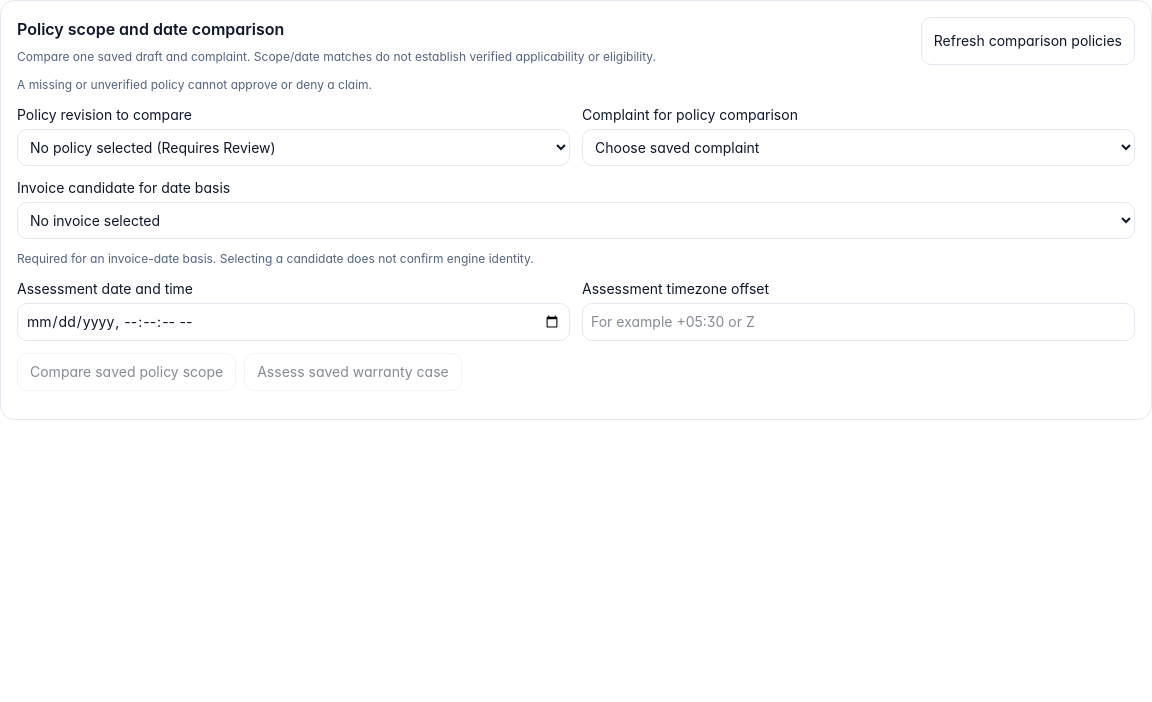
Test: requires explicit policy, case and timezone input and clears the result when inputs change
Check: the button "Compare saved policy scope" is disabled, box x1=17 y1=353 x2=236 y2=391
Select "Fixture policy draft · Revision 1" in the dropdown labelled "Policy revision to compare" at coordinates (294, 148), box x1=17 y1=129 x2=570 y2=166
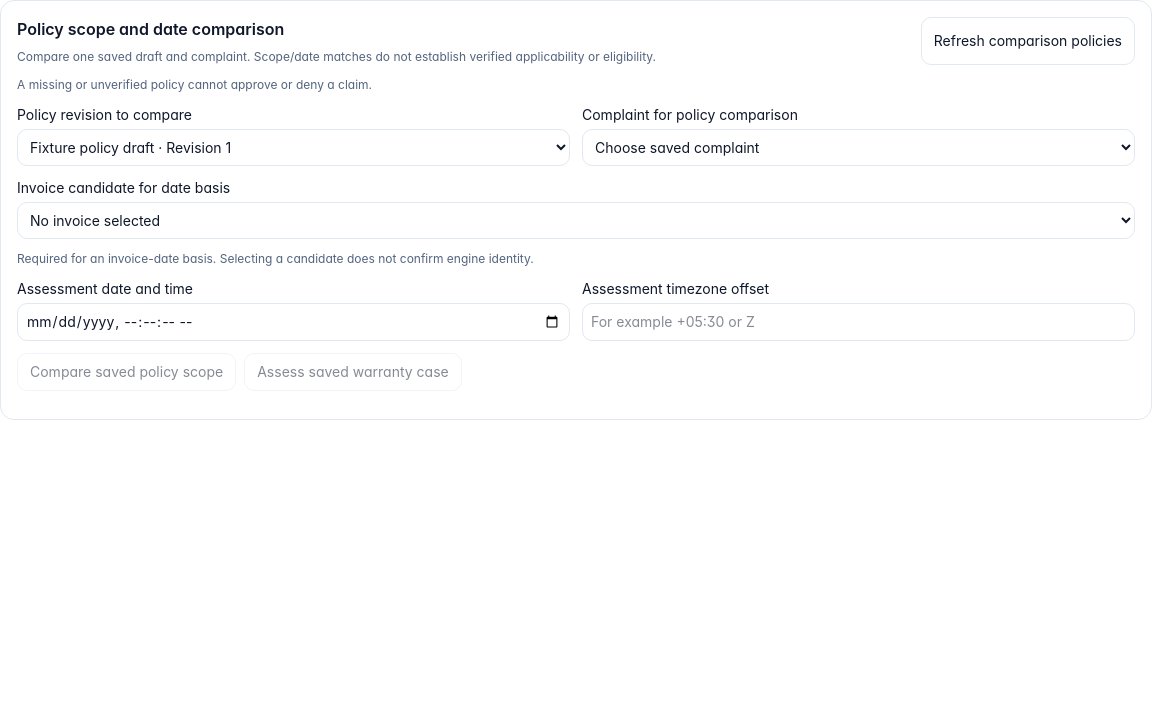
Select "t1" in the dropdown labelled "Complaint for policy comparison" at coordinates (858, 148), box x1=582 y1=129 x2=1135 y2=166
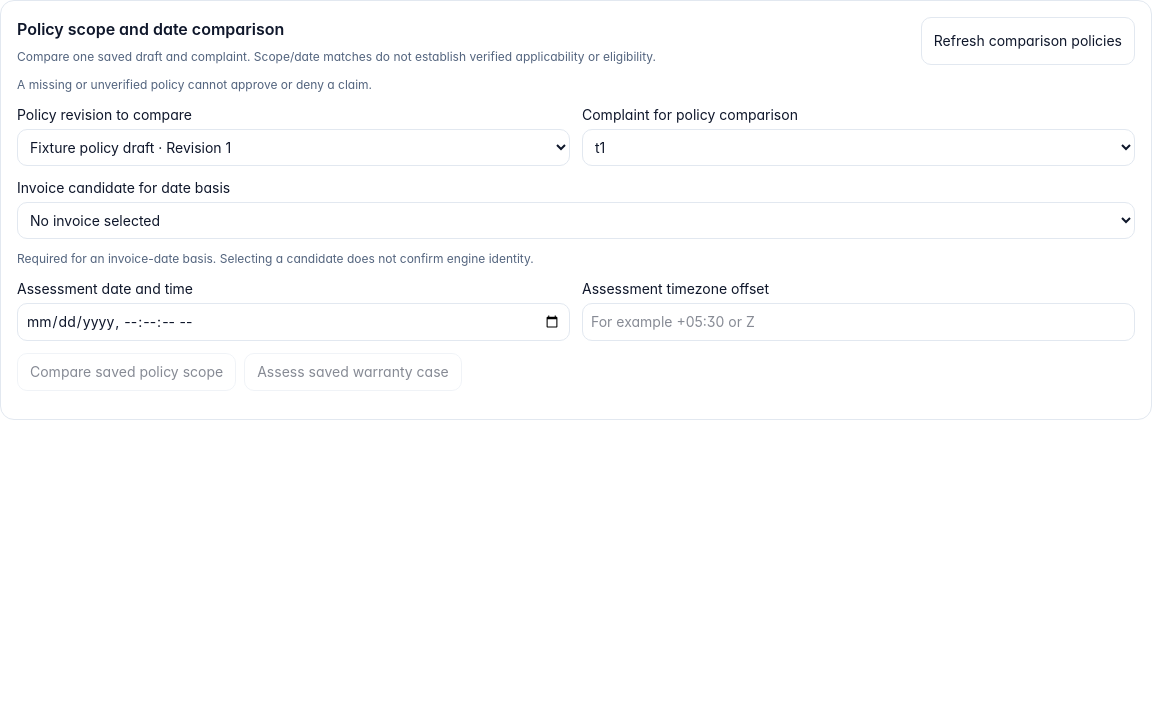
Type "2026-06-01T12:00" into the field labelled "Assessment date and time" at coordinates (294, 322), box x1=17 y1=303 x2=570 y2=341
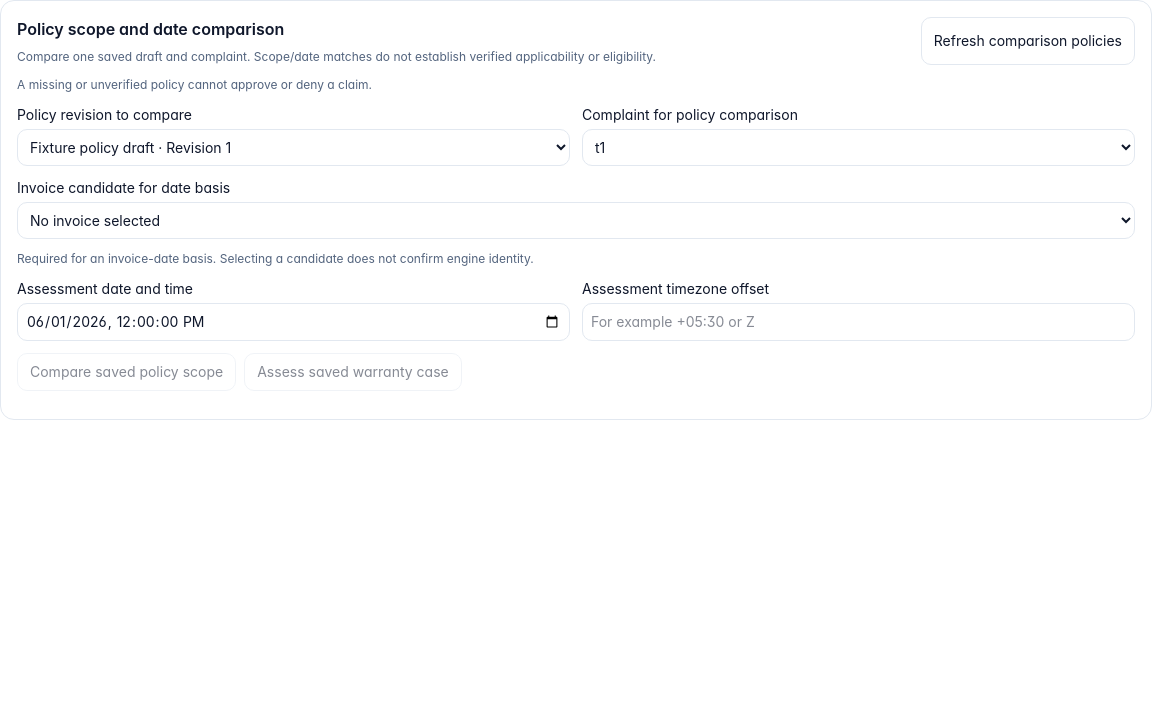
Type "+05:30" into the field labelled "Assessment timezone offset" at coordinates (858, 322), box x1=582 y1=303 x2=1135 y2=341
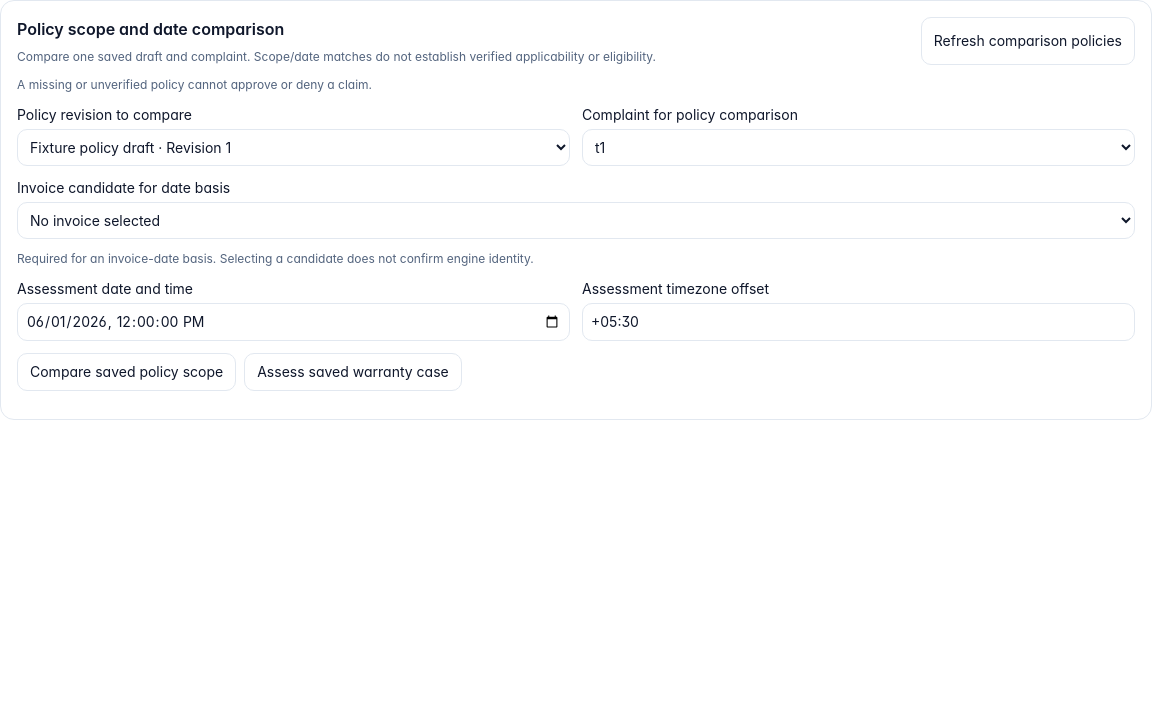
Click the button "Compare saved policy scope" at coordinates (127, 372), box x1=17 y1=353 x2=236 y2=391
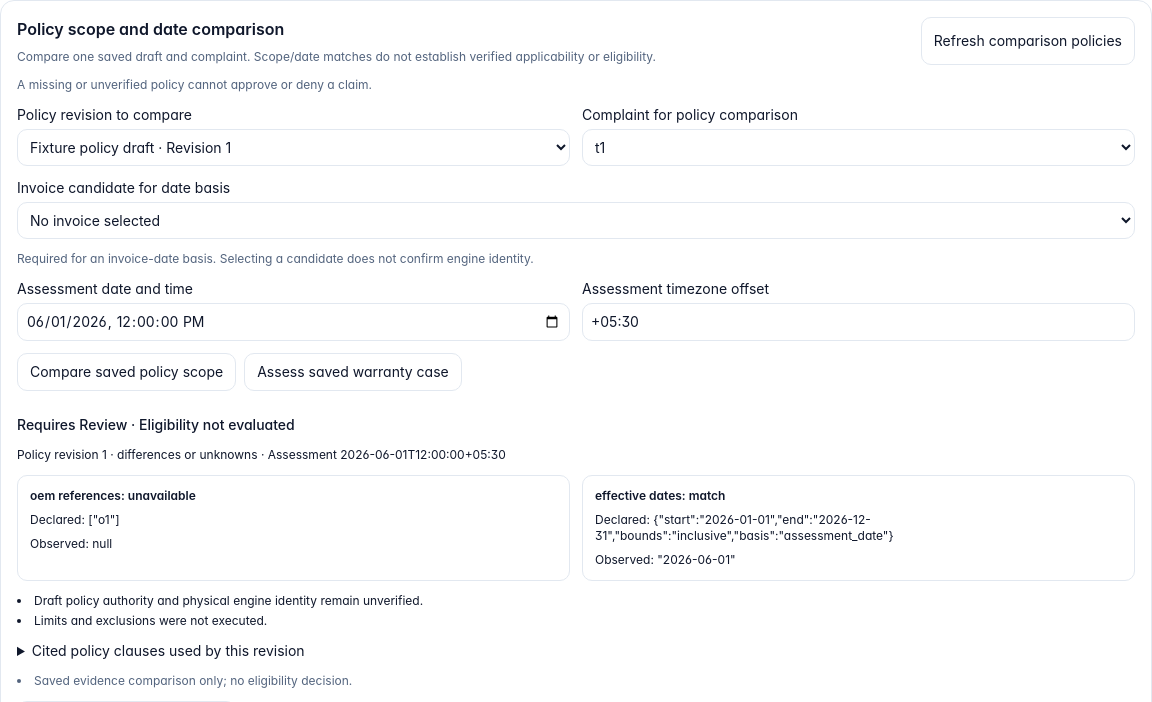
Check: the text "Requires Review · Eligibility not evaluated" is shown, box x1=17 y1=416 x2=295 y2=433
Check: the heading "effective dates: match" is shown, box x1=595 y1=488 x2=726 y2=503
Replace the text in the field labelled "Assessment timezone offset" with "Z" at coordinates (858, 322), box x1=582 y1=303 x2=1135 y2=341
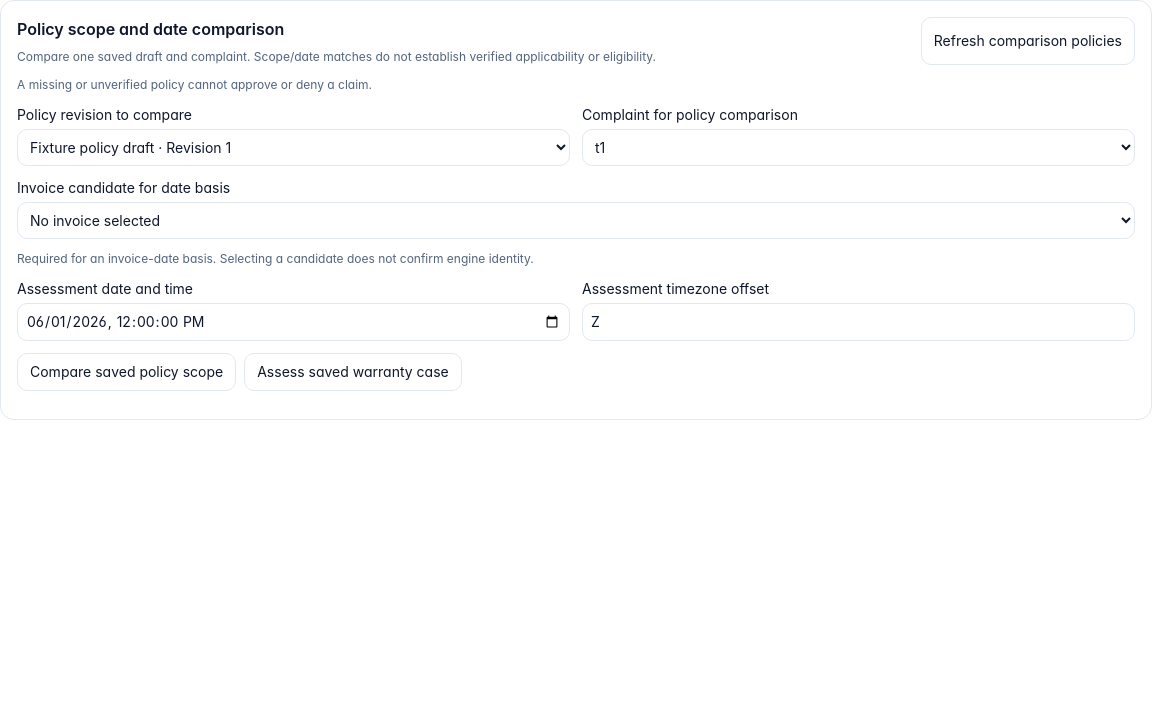
Check: the text "Eligibility not evaluated" is gone
